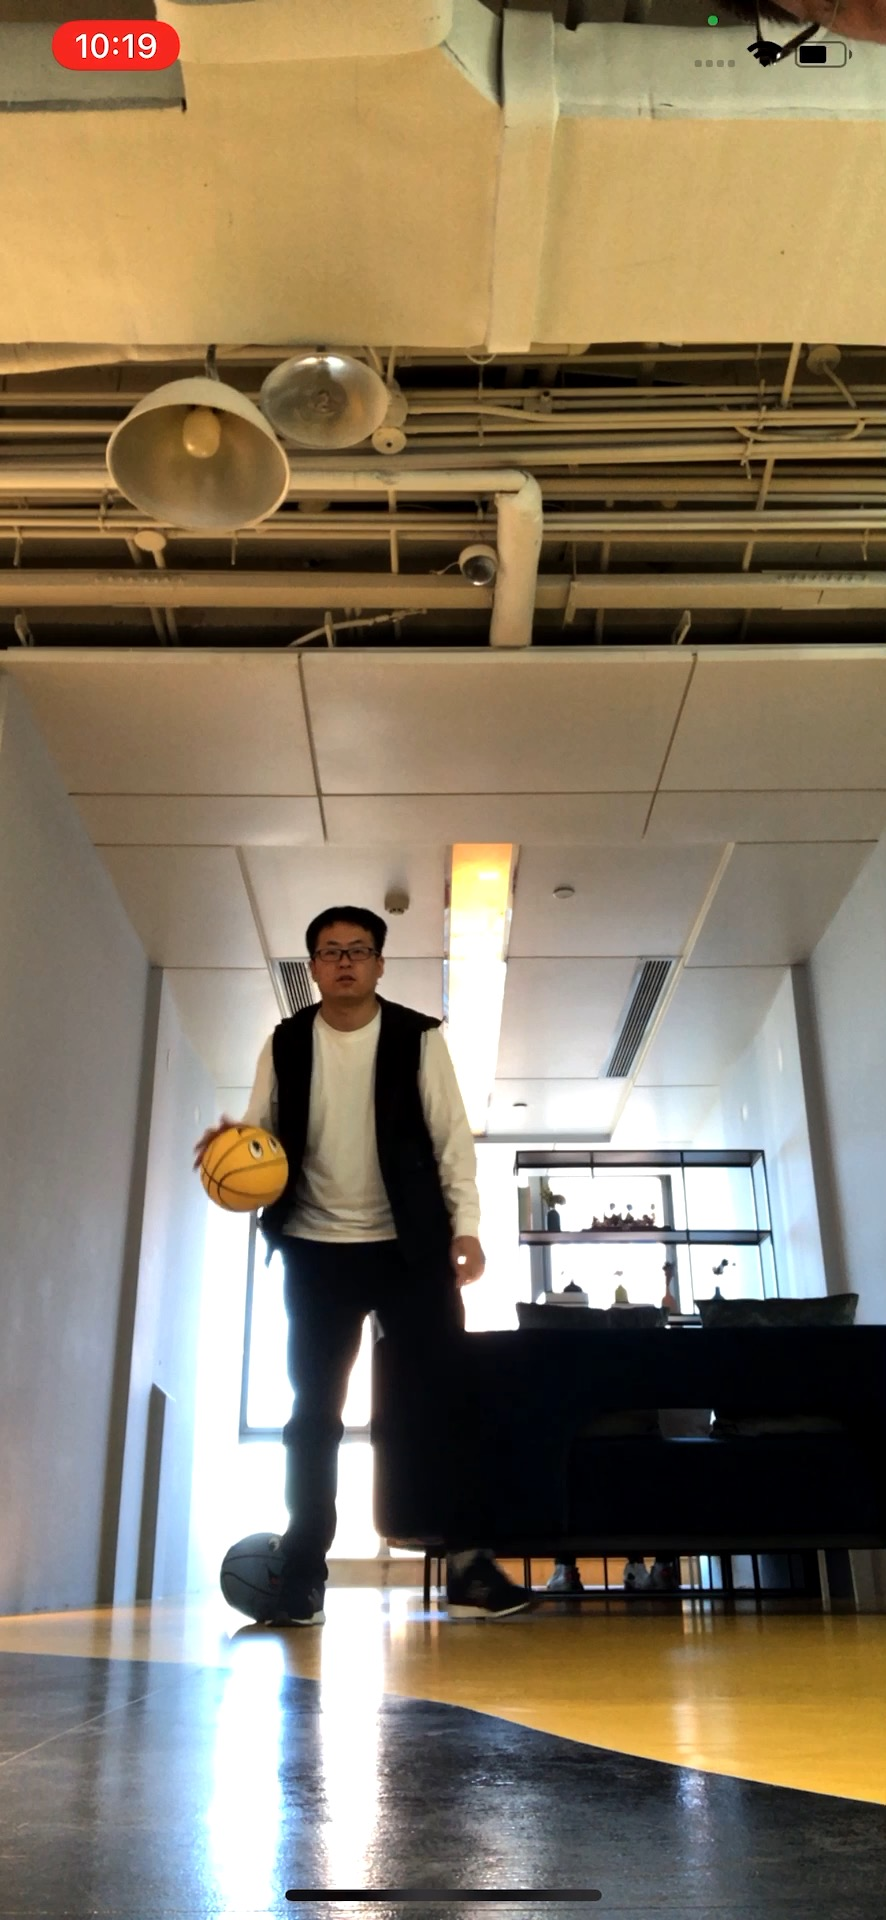ball: (196, 1123, 296, 1216), (223, 1531, 288, 1622)
